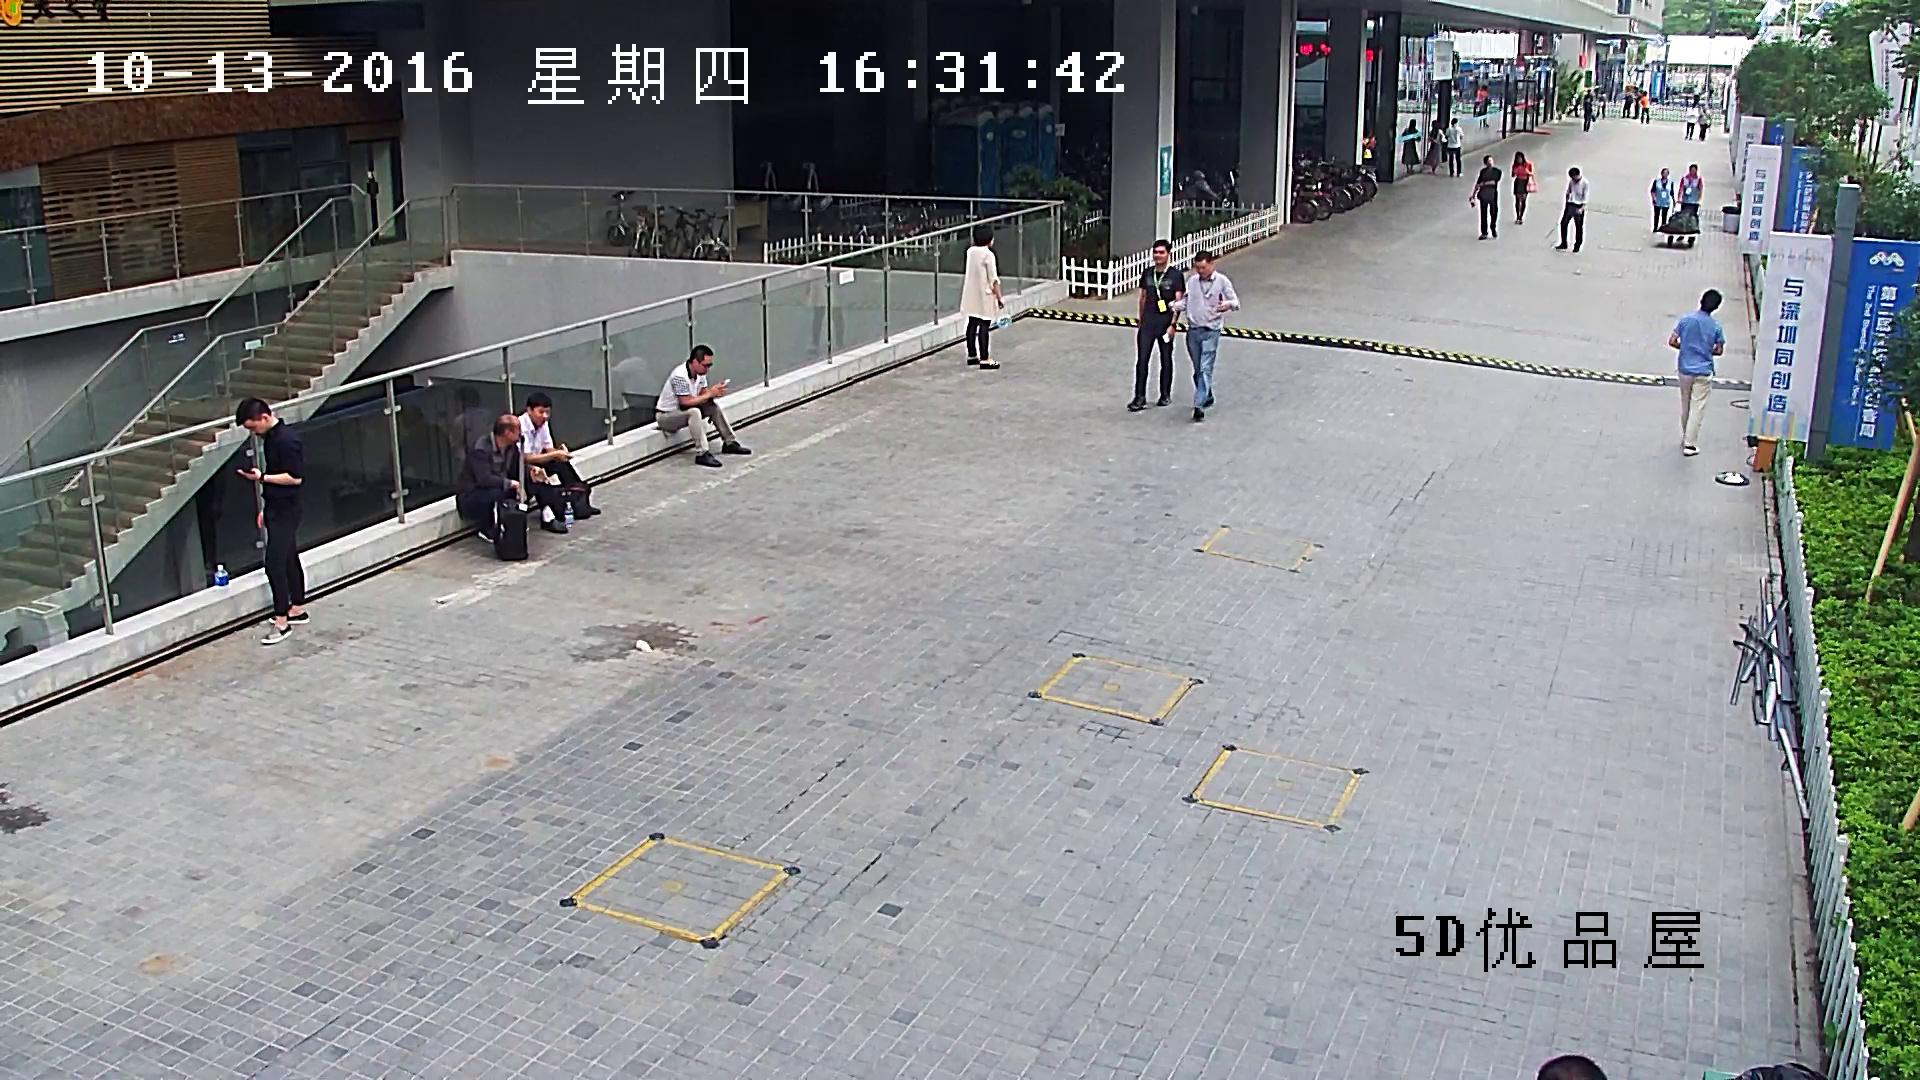person: (234, 396, 310, 645), (1167, 251, 1240, 420), (516, 393, 601, 533), (656, 344, 751, 466), (1126, 239, 1185, 411), (1668, 289, 1725, 456), (455, 413, 526, 543), (959, 225, 1011, 368), (1658, 163, 1702, 247), (1468, 155, 1502, 240), (1554, 167, 1588, 252), (1676, 163, 1702, 241), (1511, 151, 1537, 224), (1650, 167, 1676, 233), (1396, 119, 1421, 172), (1424, 120, 1444, 175), (1445, 118, 1463, 177), (1474, 85, 1491, 127), (1583, 89, 1595, 132), (1684, 102, 1698, 140), (1697, 103, 1711, 140), (1622, 88, 1632, 118), (1640, 91, 1649, 124), (1632, 88, 1639, 118)
